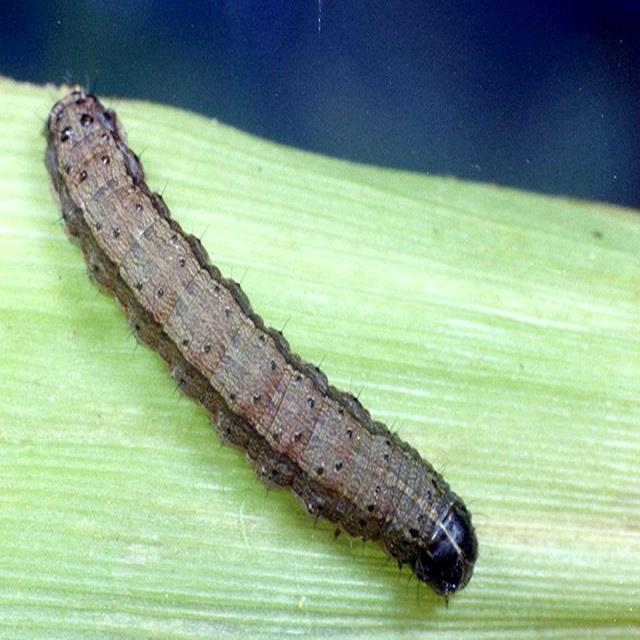worm: (42, 76, 481, 608)
